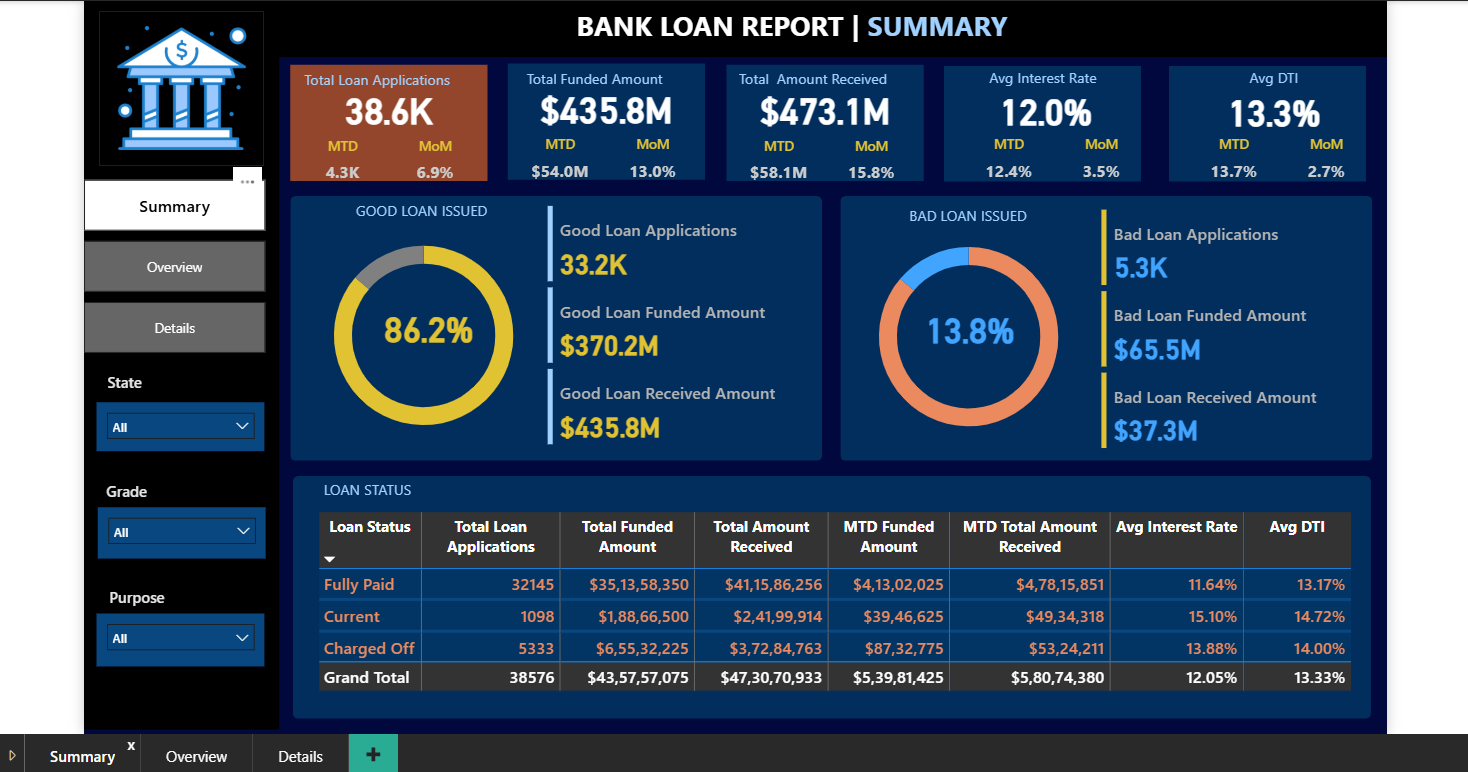

The dashboard page shown, as its layout file describes it:
{"tool":"powerbi","page":{"name":"Summary","canvas":[1280,720],"ordinal":0},"visuals":[{"type":"shape","box":[0,0,1280,55],"z":0},{"type":"shape","box":[416.6,61.2,193.9,114.1],"z":0,"group":"g3"},{"type":"shape","box":[202.5,62.5,193.9,114.1],"z":0,"group":"g1"},{"type":"shape","box":[630.6,62.9,193.9,114.1],"z":0,"group":"g4"},{"type":"shape","box":[844.7,63.3,193.3,113.3],"z":1000,"group":"g5"},{"type":"shape","box":[1065,63.3,193.3,113.3],"z":1000,"group":"g6"},{"type":"card","fields":{"Values":["Bank_loan_data.Total Funded Amount"]},"box":[431.3,77.2,164.4,54],"z":1000,"group":"g3"},{"type":"card","fields":{"Values":["Bank_loan_data.Total Loan Applications"]},"box":[217.2,78.5,164.4,54],"z":1000,"group":"g1"},{"type":"card","fields":{"Values":["Bank_loan_data.Total Amount Received"]},"box":[645.3,78.8,164.4,54],"z":1000,"group":"g4"},{"type":"shape","box":[202.5,191.2,522,260],"z":1000},{"type":"shape","box":[0,50,191.7,665],"z":2000},{"type":"textbox","box":[416.6,61.2,170.6,31.9],"z":2000,"group":"g3"},{"type":"textbox","box":[630.6,61.2,170,31.7],"z":2000,"group":"g4"},{"type":"textbox","box":[202.5,62.5,170.6,31.9],"z":2000,"group":"g1"},{"type":"card","fields":{"Values":["Bank_loan_data.Avg Interest Rate"]},"box":[863,80,163.3,53.3],"z":3000,"group":"g5"},{"type":"card","fields":{"Values":["Bank_loan_data.Avg DTI"]},"box":[1087.2,81.2,162.5,53.8],"z":3000,"group":"g6"},{"type":"card","title":"MTD","fields":{"Values":["Bank_loan_data.MTD Funded Amount"]},"box":[422.7,131.1,90.8,57.7],"z":3000,"group":"g3"},{"type":"card","title":"MTD","fields":{"Values":["Bank_loan_data.MTD Loan Applications"]},"box":[208.6,132.4,90.8,57.7],"z":3000,"group":"g1"},{"type":"card","title":"MTD","fields":{"Values":["Bank_loan_data.MTD Total Amount Received"]},"box":[636.7,132.8,90.8,57.7],"z":3000,"group":"g4"},{"type":"card","fields":{"Values":["Bank_loan_data.Good Loan %"]},"box":[280,293.8,117.5,53.8],"z":3000},{"type":"card","title":"MoM","fields":{"Values":["Bank_loan_data.MoM Total Funded Amount"]},"box":[513.5,131.1,90.8,57.7],"z":4000,"group":"g3"},{"type":"card","title":"MoM","fields":{"Values":["Bank_loan_data.MoM Loan Application"]},"box":[299.4,132.4,90.8,57.7],"z":4000,"group":"g1"},{"type":"card","title":"MoM","fields":{"Values":["Bank_loan_data.MoM Total Amount Received"]},"box":[727.5,132.8,90.8,57.7],"z":4000,"group":"g4"},{"type":"textbox","box":[246.2,191.2,170,32.5],"z":4000},{"type":"group","id":"g1","title":"Group 2","box":[202.5,62.5,193.9,127.6],"z":4005,"group":"g2"},{"type":"textbox","box":[471.2,1.2,472.4,54],"z":5000},{"type":"textbox","box":[856.4,60,170,31.7],"z":5000,"group":"g5"},{"type":"textbox","box":[1076.7,60,170,31.7],"z":5000,"group":"g6"},{"type":"group","id":"g2","title":"Group 1","box":[202.5,62.5,193.8,127.5],"z":6000},{"type":"card","title":"MTD","fields":{"Values":["Bank_loan_data.MTD Avg Int Rate"]},"box":[862.5,131.6,90.8,57.7],"z":6000,"group":"g5"},{"type":"card","title":"MTD","fields":{"Values":["Bank_loan_data.MTD Avg DTI"]},"box":[1082.8,131.6,90.8,57.7],"z":6000,"group":"g6"},{"type":"group","id":"g3","title":"Group 2","box":[416.6,61.2,193.8,128.8],"z":7000},{"type":"card","title":"MoM","fields":{"Values":["Bank_loan_data.MoM Avg Int Rate"]},"box":[953.3,131.6,90.8,57.7],"z":7000,"group":"g5"},{"type":"card","title":"MoM","fields":{"Values":["Bank_loan_data.MoM Avg DTI"]},"box":[1173.6,131.6,90.8,57.7],"z":7000,"group":"g6"},{"type":"donutChart","fields":{"Category":["Bank_loan_data.Good  vs Bad Loan"],"Y":["Bank_loan_data.Total Loan Applications"]},"box":[208.3,213.3,250,230],"z":8000},{"type":"group","id":"g4","title":"Group 3","box":[630.6,61.2,193.8,130],"z":9000},{"type":"group","id":"g5","title":"Group 4","box":[844.7,60,200,128.8],"z":10000},{"type":"group","id":"g6","title":"Group 4","box":[1065,60,200,128.8],"z":11000},{"type":"shape","box":[742.5,191.2,522.5,260],"z":12000},{"type":"cardVisual","fields":{"Data":["Bank_loan_data.Good Loan Applications","Bank_loan_data.Good Loan Funded Amount","Bank_loan_data.Good Loan Received Amount"]},"box":[450,196.7,273.3,245],"z":13000},{"type":"donutChart","fields":{"Category":["Bank_loan_data.Good  vs Bad Loan"],"Y":["Bank_loan_data.Total Loan Applications"]},"box":[743.3,215,250,230],"z":14000},{"type":"textbox","box":[783.3,196.7,170,33.3],"z":15000},{"type":"card","fields":{"Values":["Bank_loan_data.Bad Loan %"]},"box":[810,293.3,120,55],"z":16000},{"type":"cardVisual","fields":{"Data":["Bank_loan_data.Bad Loan Applications","Bank_loan_data.Bad Loan Funded Amount","Bank_loan_data.Bad Loan Received Amount"]},"box":[993.3,200,273.3,245],"z":17000},{"type":"shape","box":[205,466.7,1058.3,238.3],"z":18000},{"type":"tableEx","fields":{"Values":["Bank_loan_data.loan_status","Bank_loan_data.Total Loan Applications","Bank_loan_data.Total Funded Amount","Bank_loan_data.Total Amount Received","Bank_loan_data.MTD Funded Amount","Bank_loan_data.MTD Total Amount Received","Bank_loan_data.Avg Interest Rate","Bank_loan_data.Avg DTI"]},"box":[225,496.7,1041.7,208.3],"z":19000},{"type":"textbox","box":[191.7,465,170,31.7],"z":20000},{"type":"slicer","fields":{"Values":["Bank_loan_data.address_state"]},"box":[11.7,393.3,165,48.3],"z":21000},{"type":"textbox","box":[11.7,360,63.3,43.3],"z":22000},{"type":"slicer","fields":{"Values":["Bank_loan_data.grade"]},"box":[13.3,496.7,165,50],"z":23000},{"type":"slicer","fields":{"Values":["Bank_loan_data.purpose"]},"box":[11.7,601.7,165,51.7],"z":24000},{"type":"textbox","box":[11.7,466.7,63.3,43.3],"z":25000},{"type":"textbox","box":[11.7,570,83.3,43.3],"z":26000},{"type":"pageNavigator","box":[0,175,178.3,171.7],"z":27000},{"type":"image","box":[15,10,161.7,151.7],"z":28000}]}

Visuals, with their boxes on the page's 1280x720 design canvas (x1, y1, x2, y2). These are canvas units, not pixel positions in the 1468x772 screenshot, which may show the page scaled, cropped or inside an application window:
shape: region(0, 0, 1280, 55)
shape: region(417, 61, 610, 175)
shape: region(202, 62, 396, 177)
shape: region(631, 63, 824, 177)
shape: region(845, 63, 1038, 177)
shape: region(1065, 63, 1258, 177)
card - Bank_loan_data.Total Funded Amount: region(431, 77, 596, 131)
card - Bank_loan_data.Total Loan Applications: region(217, 78, 382, 132)
card - Bank_loan_data.Total Amount Received: region(645, 79, 810, 133)
shape: region(202, 191, 724, 451)
shape: region(0, 50, 192, 715)
textbox: region(417, 61, 587, 93)
textbox: region(631, 61, 801, 93)
textbox: region(202, 62, 373, 94)
card - Bank_loan_data.Avg Interest Rate: region(863, 80, 1026, 133)
card - Bank_loan_data.Avg DTI: region(1087, 81, 1250, 135)
"MTD" card: region(423, 131, 514, 189)
"MTD" card: region(209, 132, 299, 190)
"MTD" card: region(637, 133, 728, 190)
card - Bank_loan_data.Good Loan %: region(280, 294, 398, 348)
"MoM" card: region(514, 131, 604, 189)
"MoM" card: region(299, 132, 390, 190)
"MoM" card: region(728, 133, 818, 190)
textbox: region(246, 191, 416, 224)
"Group 2" group: region(202, 62, 396, 190)
textbox: region(471, 1, 944, 55)
textbox: region(856, 60, 1026, 92)
textbox: region(1077, 60, 1247, 92)
"Group 1" group: region(202, 62, 396, 190)
"MTD" card: region(862, 132, 953, 189)
"MTD" card: region(1083, 132, 1174, 189)
"Group 2" group: region(417, 61, 610, 190)
"MoM" card: region(953, 132, 1044, 189)
"MoM" card: region(1174, 132, 1264, 189)
donutChart - Bank_loan_data.Good  vs Bad Loan x Bank_loan_data.Total Loan Applications: region(208, 213, 458, 443)
"Group 3" group: region(631, 61, 824, 191)
"Group 4" group: region(845, 60, 1045, 189)
"Group 4" group: region(1065, 60, 1265, 189)
shape: region(742, 191, 1265, 451)
cardVisual - Bank_loan_data.Good Loan Applications x Bank_loan_data.Good Loan Funded Amount: region(450, 197, 723, 442)
donutChart - Bank_loan_data.Good  vs Bad Loan x Bank_loan_data.Total Loan Applications: region(743, 215, 993, 445)
textbox: region(783, 197, 953, 230)
card - Bank_loan_data.Bad Loan %: region(810, 293, 930, 348)
cardVisual - Bank_loan_data.Bad Loan Applications x Bank_loan_data.Bad Loan Funded Amount: region(993, 200, 1267, 445)
shape: region(205, 467, 1263, 705)
tableEx - Bank_loan_data.loan_status x Bank_loan_data.Total Loan Applications: region(225, 497, 1267, 705)
textbox: region(192, 465, 362, 497)
slicer - Bank_loan_data.address_state: region(12, 393, 177, 442)
textbox: region(12, 360, 75, 403)
slicer - Bank_loan_data.grade: region(13, 497, 178, 547)
slicer - Bank_loan_data.purpose: region(12, 602, 177, 653)
textbox: region(12, 467, 75, 510)
textbox: region(12, 570, 95, 613)
pageNavigator: region(0, 175, 178, 347)
image: region(15, 10, 177, 162)
